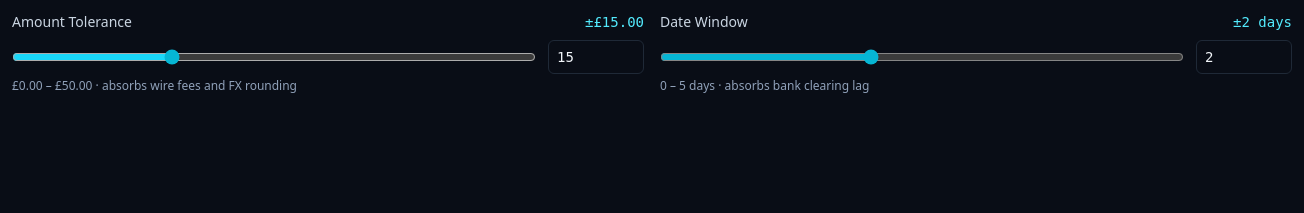
Test: ToleranceControls › uses the singular and names the records that would start matching
Replace the text in the number field named "Amount tolerance, exact value" with "50" at (596, 57), box [548,40,644,74]
Wait 250 ms
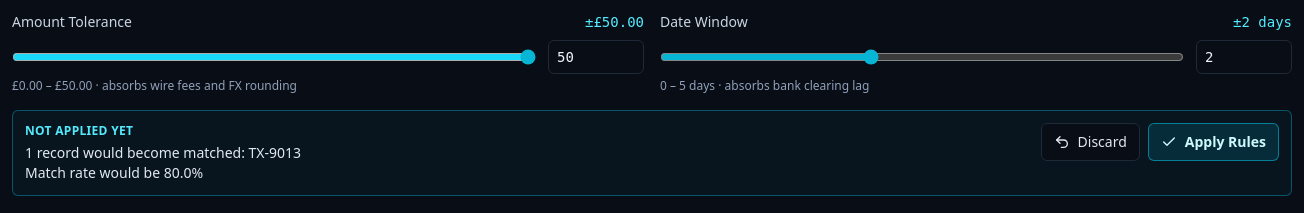
Check: the text "1 record would become matched: TX-9013" is shown, box [25,143,301,163]
